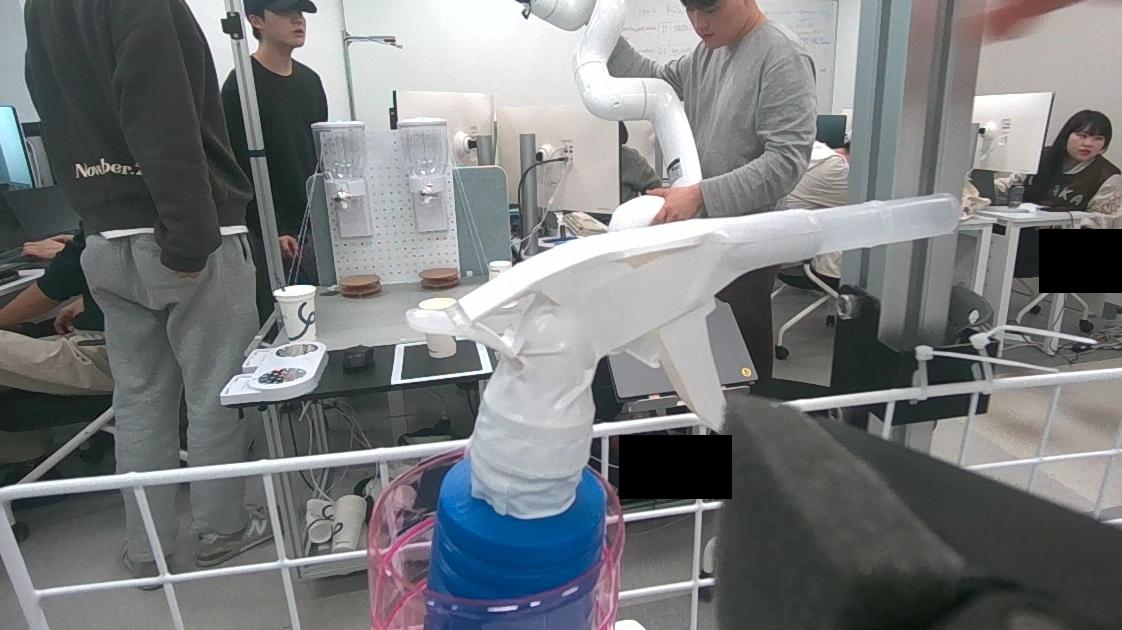Nozzle: (398, 208, 824, 608)
